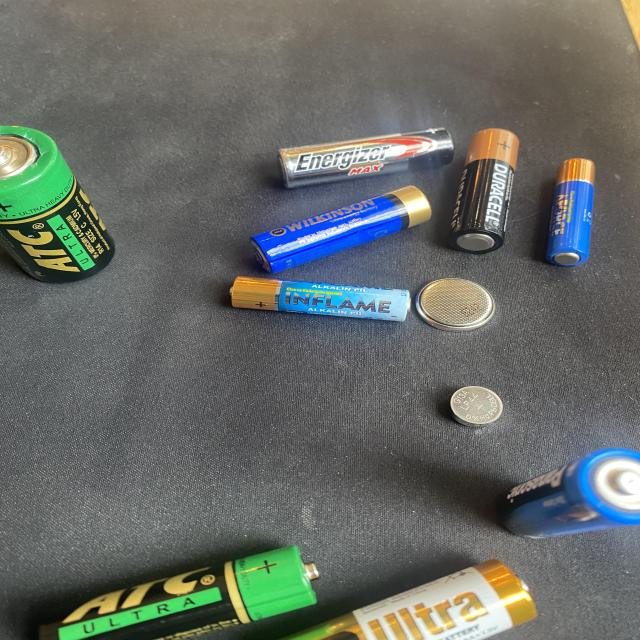AA: (455, 116, 527, 262)
COIN: (406, 272, 508, 344)
